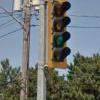Traffic light: (42, 1, 81, 76)
